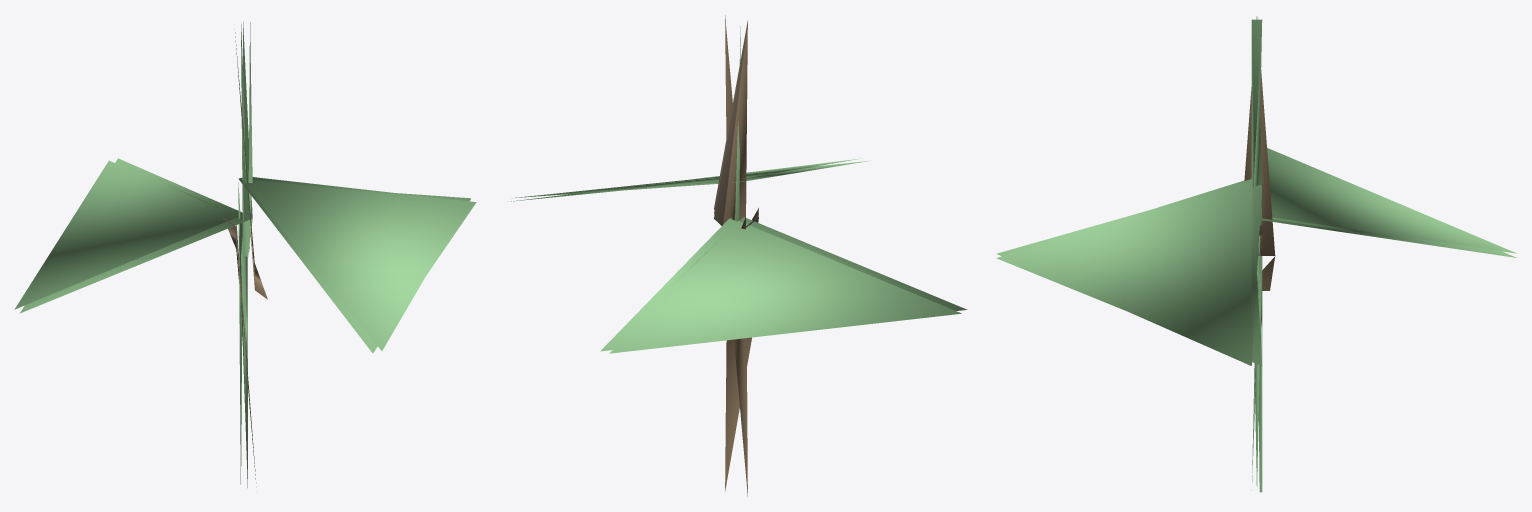
Rendered from equip_ammo_quiver_adamant.glb.
3 renders of one model, left to right at view 1: azimuth 30°, elevation 25°; view 2: azimuth 150°, elevation 25°; view 3: azimuth 270°, elevation 25°, orthographic.
Visible parts, largest first — view 1: equip_ammo_quiver_adamant; view 2: equip_ammo_quiver_adamant; view 3: equip_ammo_quiver_adamant.
Boxes of the visible parts, x1,y1,x2,y2 form: equip_ammo_quiver_adamant: (14, 21, 476, 487); equip_ammo_quiver_adamant: (508, 15, 967, 496); equip_ammo_quiver_adamant: (996, 16, 1516, 492).
Bounding box in the file's own units: 2 × 2 × 2.
